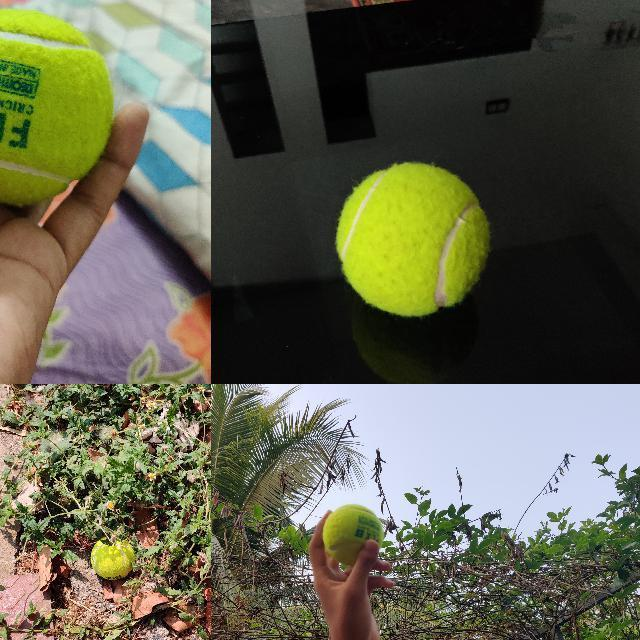tennis-ball: (336, 161, 491, 316), (0, 8, 115, 207), (322, 504, 384, 566), (91, 547, 132, 580)
